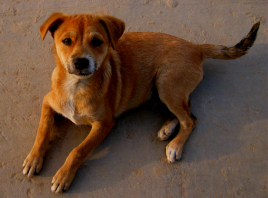dog: (22, 11, 261, 195)
